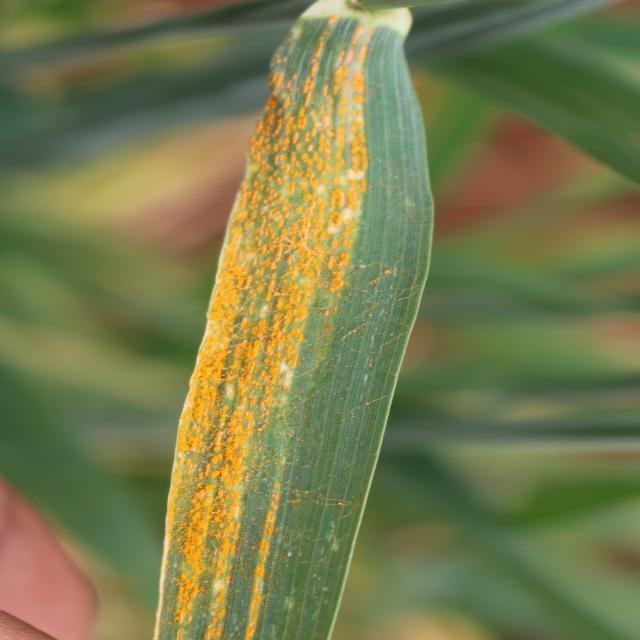Stripe Rust: (165, 48, 382, 622)
